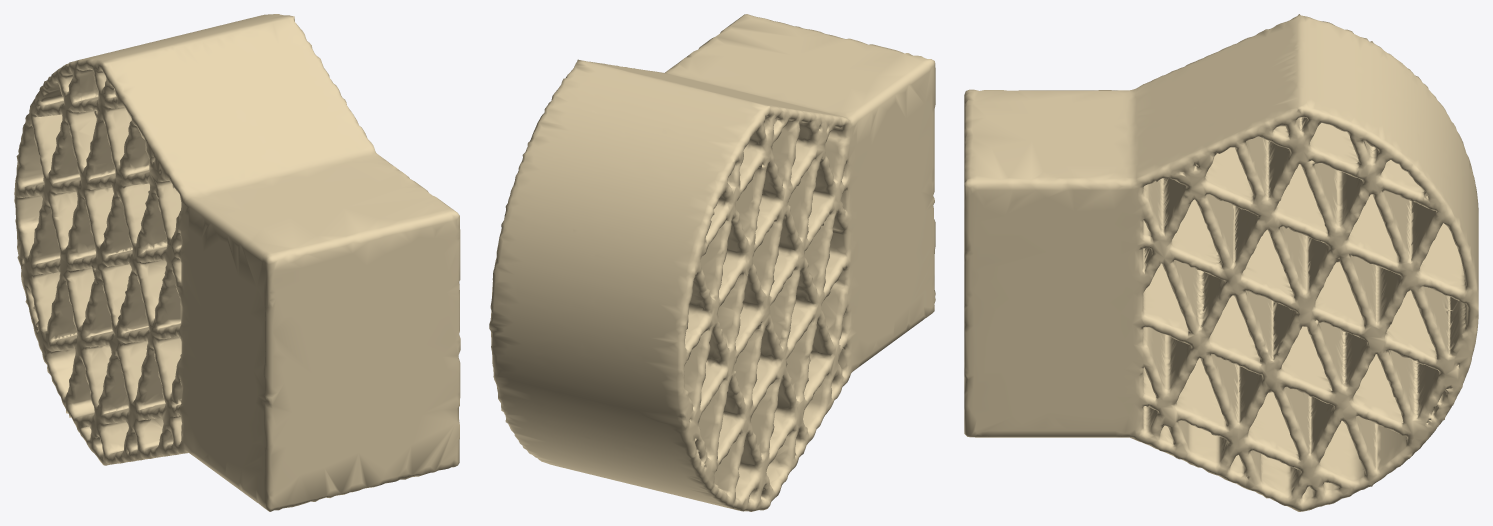
The model's file is ollie-paw-shape-080.glb.
The picture shows the model from 3 angles, left to right: view 1: azimuth 30°, elevation 25°; view 2: azimuth 150°, elevation 25°; view 3: azimuth 270°, elevation 25°; orthographic projection.
Visible parts, largest first — view 1: world; view 2: world; view 3: world.
Boxes of the visible parts, x1,y1,x2,y2 form: world: (14,14,460,511); world: (489,14,935,511); world: (964,14,1478,511).
Size of the model in its own units: 20.01 by 39.94 by 46.
